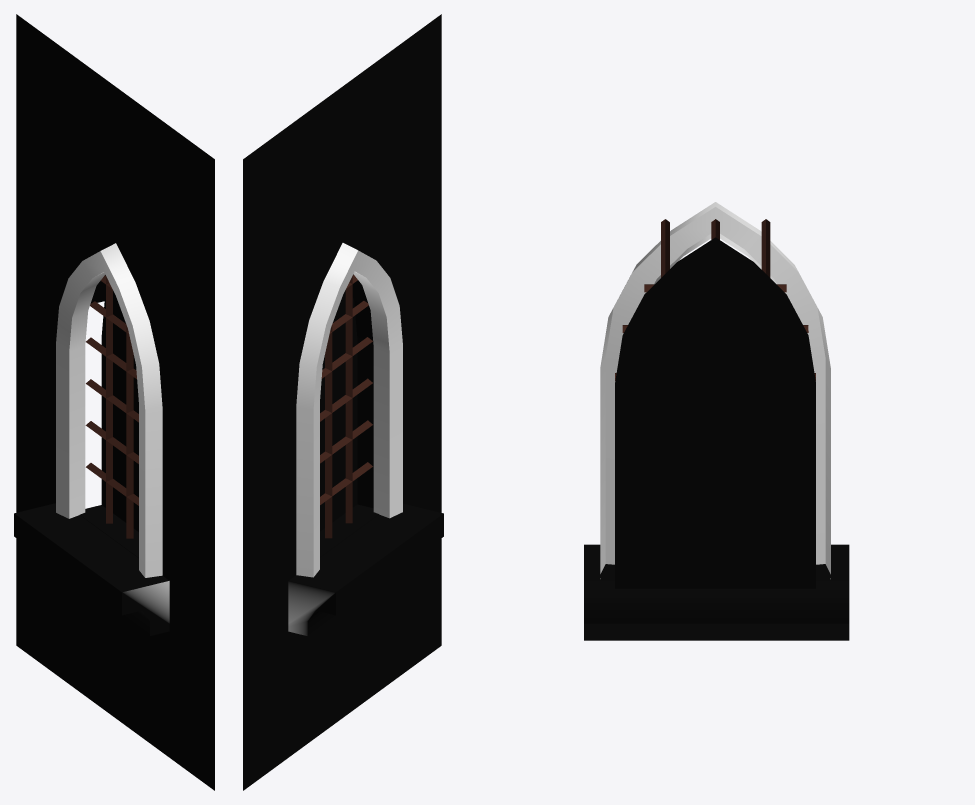
Rendered from standard_window_15.FBX.
3 renders of one model, left to right at view 1: azimuth 30°, elevation 25°; view 2: azimuth 150°, elevation 25°; view 3: azimuth 270°, elevation 25°, orthographic. The views are drawn at different scales.
Parts seen in each view (by area): view 1: standard_window_15; view 2: standard_window_15; view 3: standard_window_15.
Boxes of the visible parts, x1,y1,x2,y2 form: standard_window_15: (14,14,214,790); standard_window_15: (243,14,443,790); standard_window_15: (584,202,849,640).
Size of the model in its own units: 46.29 by 378 by 215.
